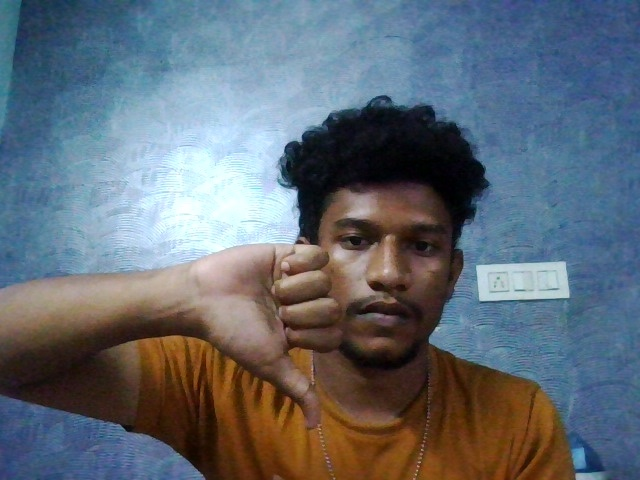no: (180, 220, 355, 441)
